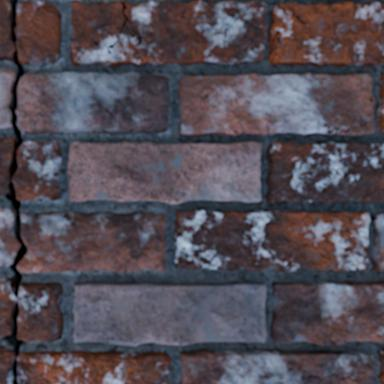brick: (70, 1, 266, 65), (73, 282, 265, 345), (179, 73, 372, 135), (174, 210, 369, 270), (68, 142, 260, 202), (269, 1, 383, 66), (266, 142, 383, 203), (271, 281, 383, 343), (180, 349, 375, 383), (331, 116, 374, 136), (372, 214, 383, 270), (377, 75, 383, 131), (377, 349, 383, 383)
broken_brick: (17, 71, 169, 134), (18, 210, 168, 273), (18, 350, 171, 383), (16, 0, 62, 65), (13, 140, 61, 201), (19, 282, 64, 343), (0, 207, 18, 267), (0, 68, 15, 129), (0, 136, 14, 196), (0, 0, 13, 62), (0, 277, 13, 337), (0, 345, 12, 383)
crack: (2, 0, 28, 383), (322, 96, 375, 134), (107, 0, 143, 54), (277, 3, 306, 25)
